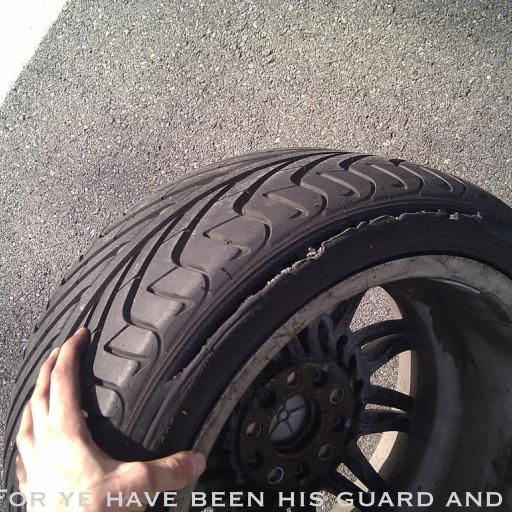Copperplate: (0, 488, 512, 507)
